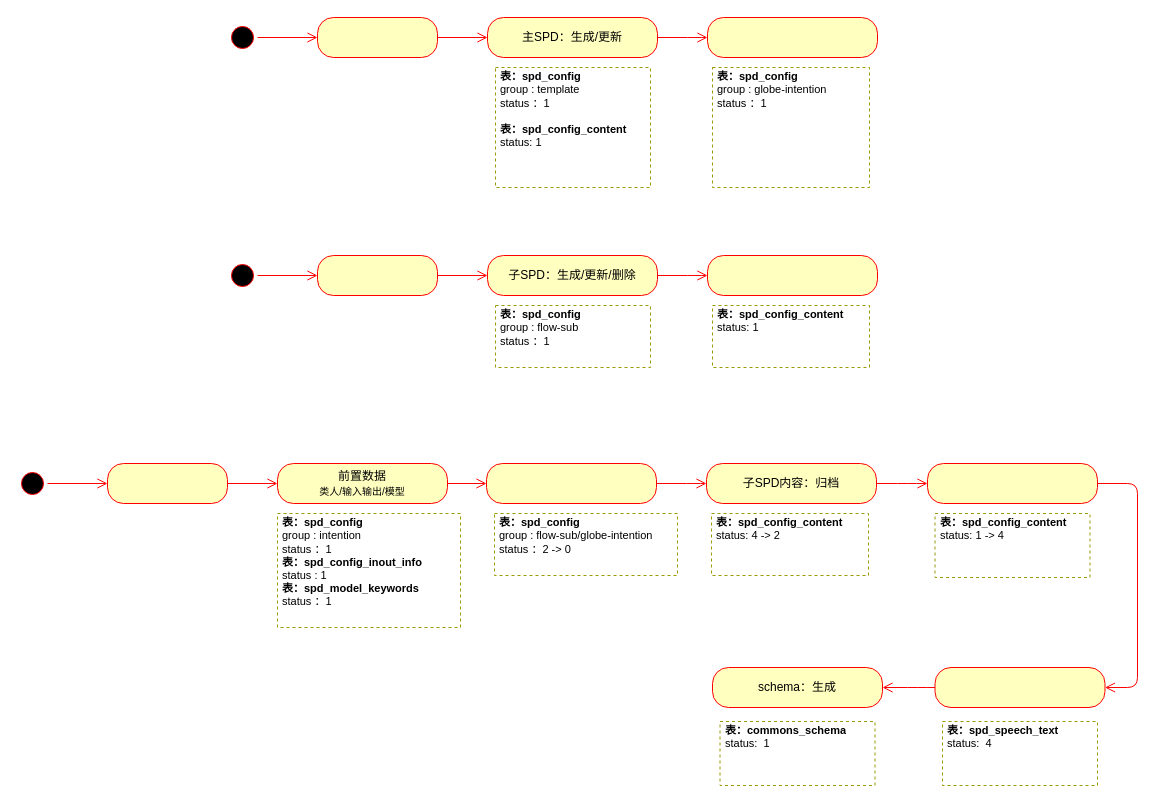
The diagram is 1165 pixels wide and 803 high, and some of its shapes have lost their labels. Here are the shapes that lost their labels. From the top down, the centre of each, then its label:
At (377,37): "保存".
At (792,37): "场景子SPD：生成/更新/失效".
At (377,275): "创建子SPD".
At (792,275): "子SPD内容：生成/更新".
At (167,483): "发布".
At (571,483): "子SPD：删除".
At (1012,483): "子SPD：发布".
At (1019,687): "话术：发布".
